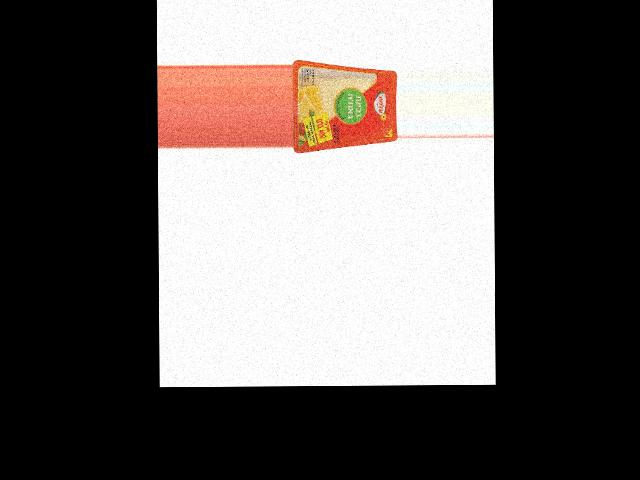cheese: (291, 59, 396, 153)
